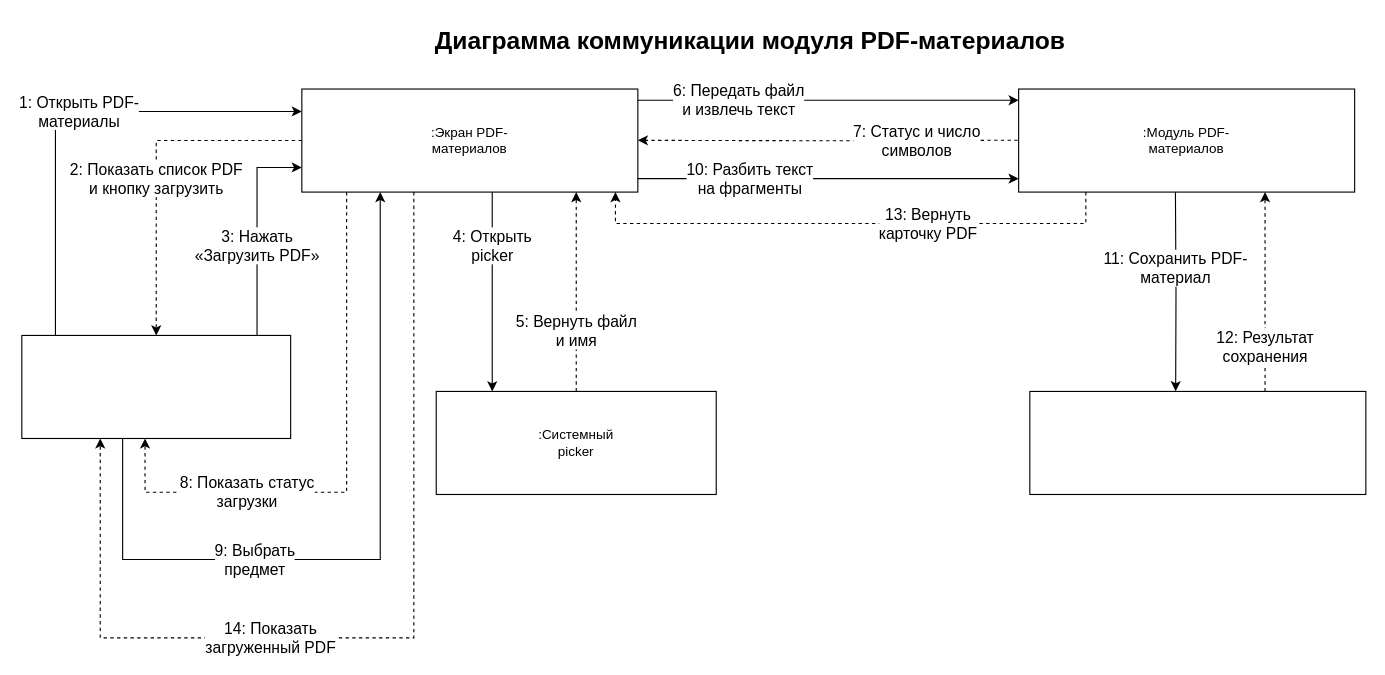
Image size: 1385x675. Some labels were removed from this diagram. The shapes that lost their labels are listed below. From the top down, each one's centre as x and y in pixels, then its label:
the point at 156,386: :Пользователь
the point at 1197,442: :Локальное хранилище
